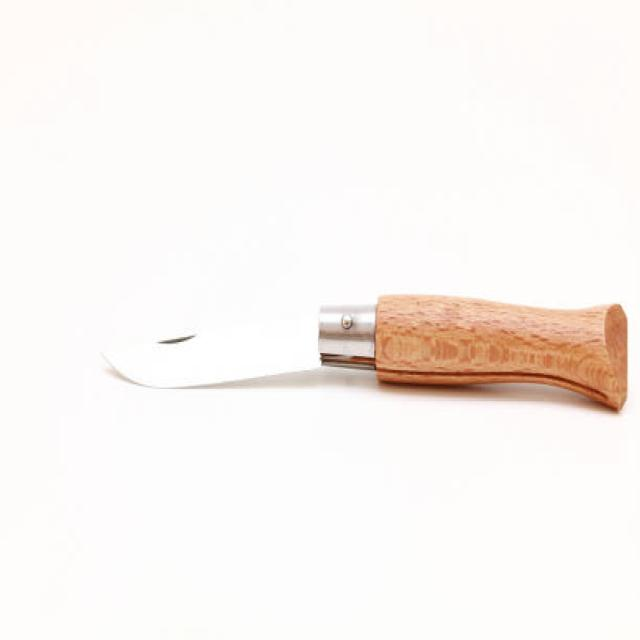knife: (99, 291, 630, 425)
